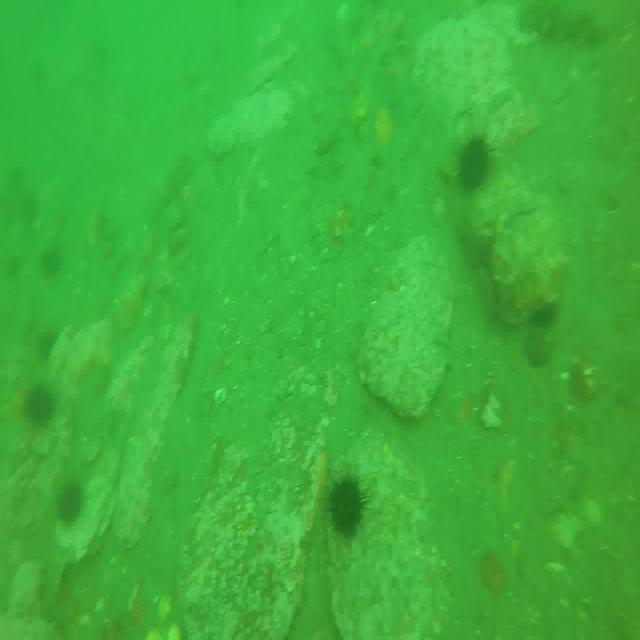echinus: (331, 478, 367, 533), (57, 478, 85, 528), (24, 386, 54, 432), (461, 139, 489, 188)
